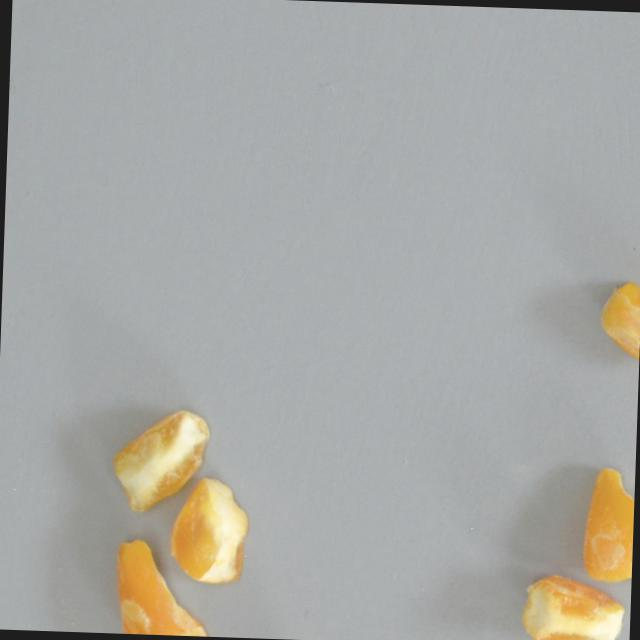estandar: (107, 407, 210, 517)
pelicula: (105, 536, 209, 636), (164, 472, 250, 590), (563, 456, 635, 582), (515, 562, 627, 640), (593, 263, 640, 388)
